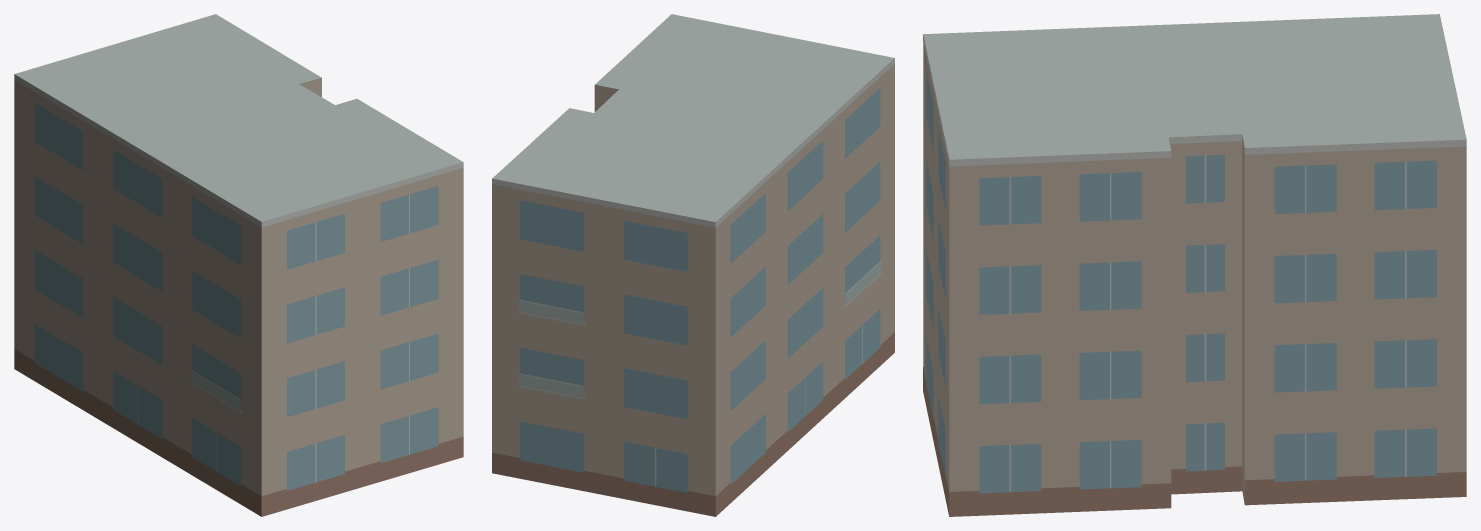
The model's file is survey-upis-32616540.glb.
3 views of the same model, side by side, from view 1: azimuth 30°, elevation 25°; view 2: azimuth 150°, elevation 25°; view 3: azimuth 270°, elevation 25° (orthographic). The views are drawn at different scales.
Parts seen in each view (by area): view 1: survey-upis-32616540.tmp; view 2: survey-upis-32616540.tmp; view 3: survey-upis-32616540.tmp.
Boxes of the visible parts, <box> form: survey-upis-32616540.tmp: <box>14,14,463,516</box>; survey-upis-32616540.tmp: <box>492,14,894,516</box>; survey-upis-32616540.tmp: <box>923,14,1466,516</box>.
Size of the model in its own units: 11.21 by 12.8 by 17.67.
